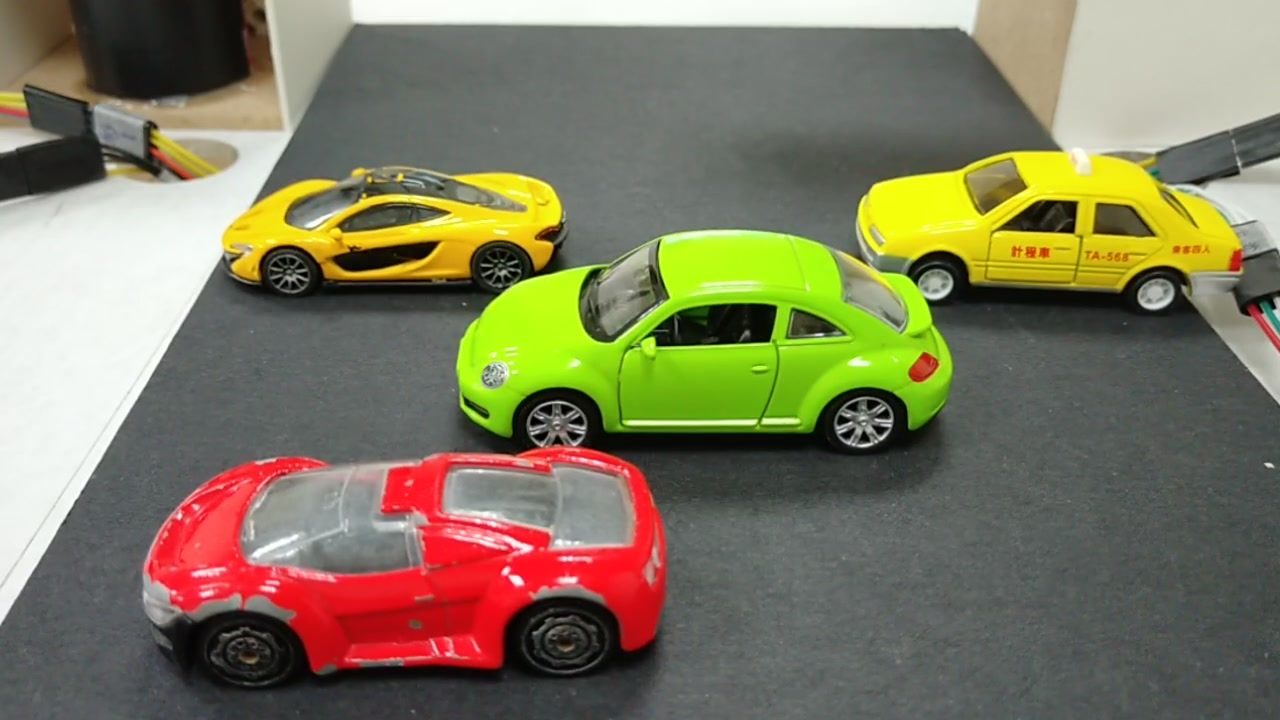car: (140, 429, 661, 688), (452, 231, 951, 451), (854, 152, 1246, 324), (221, 164, 572, 287)
